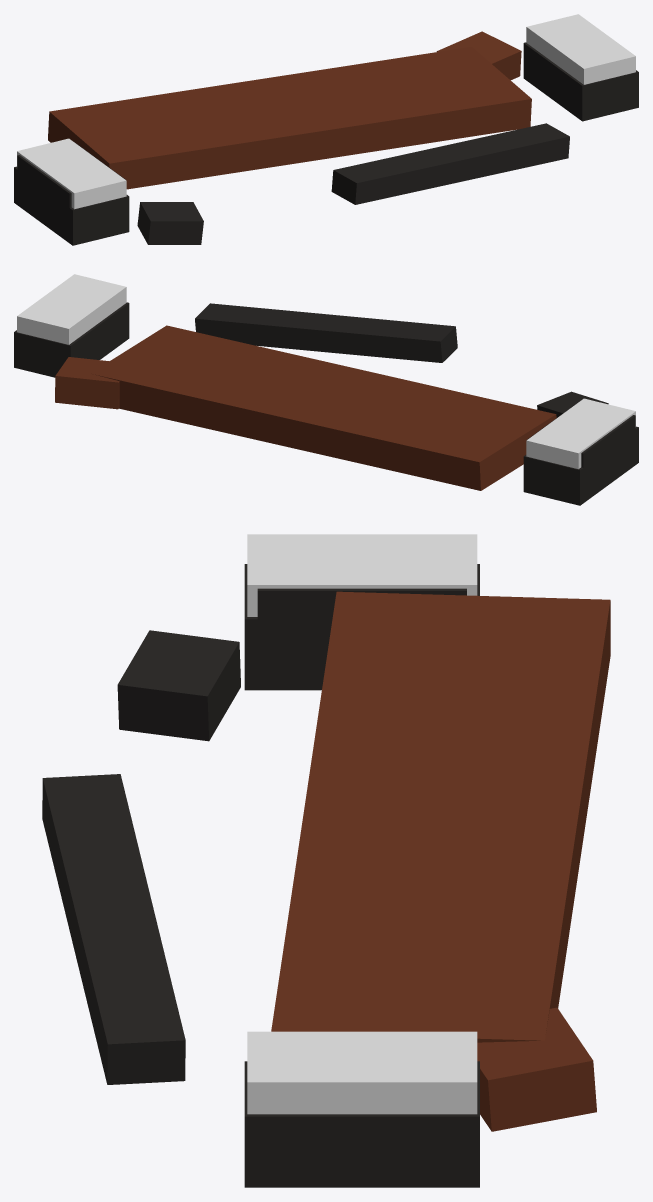
The model's file is RF_Structure_Door_Destroyed.glb.
3 renders of one model, top to bottom at view 1: azimuth 30°, elevation 25°; view 2: azimuth 150°, elevation 25°; view 3: azimuth 270°, elevation 25°, orthographic. The views are drawn at different scales.
Visible parts, largest first — view 1: RF_Structure_Door_Destroyed, TeamTrim; view 2: RF_Structure_Door_Destroyed, TeamTrim; view 3: RF_Structure_Door_Destroyed, TeamTrim.
Boxes of the visible parts, x1,y1,x2,y2 form: RF_Structure_Door_Destroyed: (14, 31, 638, 245); TeamTrim: (17, 14, 635, 209); RF_Structure_Door_Destroyed: (14, 302, 638, 505); TeamTrim: (17, 274, 635, 469); RF_Structure_Door_Destroyed: (42, 564, 610, 1187); TeamTrim: (247, 534, 477, 1114).
Bounding box in the file's own units: 5 × 0.435 × 2.17.
